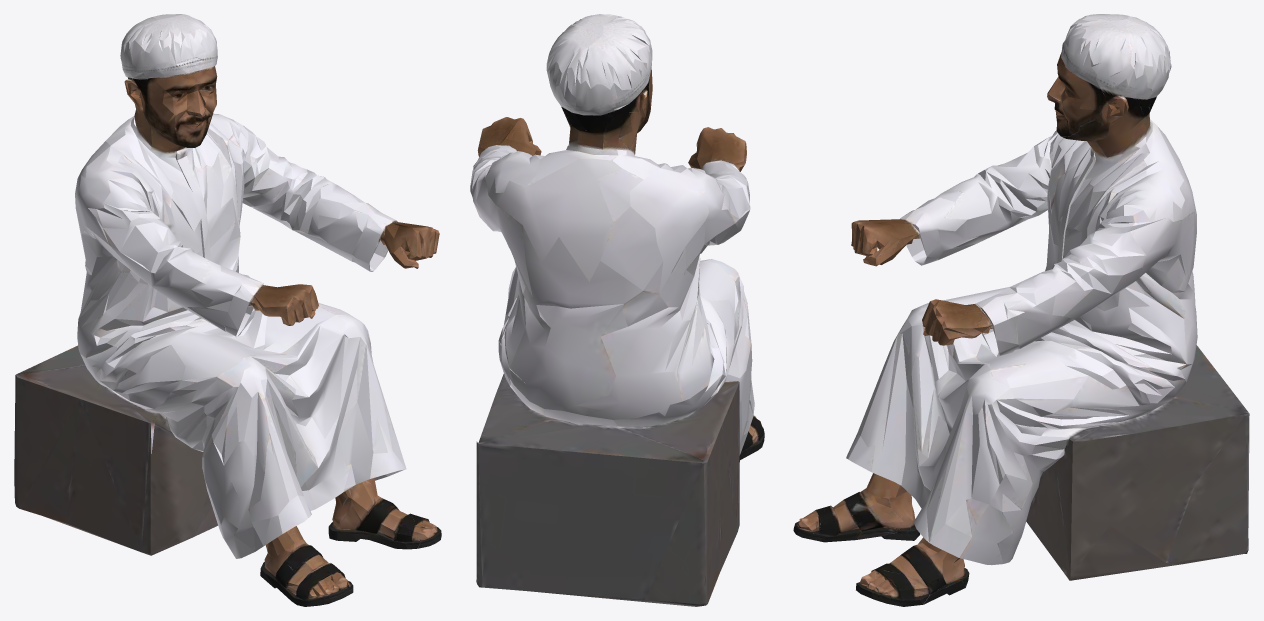
Rendered from d_sheikh.glb.
3 views of the same model, side by side, from view 1: azimuth 30°, elevation 25°; view 2: azimuth 150°, elevation 25°; view 3: azimuth 270°, elevation 25° (orthographic). The views are drawn at different scales.
Visible parts, largest first — view 1: output_unwrapped; view 2: output_unwrapped; view 3: output_unwrapped.
Boxes of the visible parts, <box> form: output_unwrapped: <box>14,14,441,606</box>; output_unwrapped: <box>470,14,764,606</box>; output_unwrapped: <box>793,14,1249,606</box>.
Bounding box in the file's own units: 1.29 × 1.9 × 1.54.
Materials: 1 (1 with a texture image).
